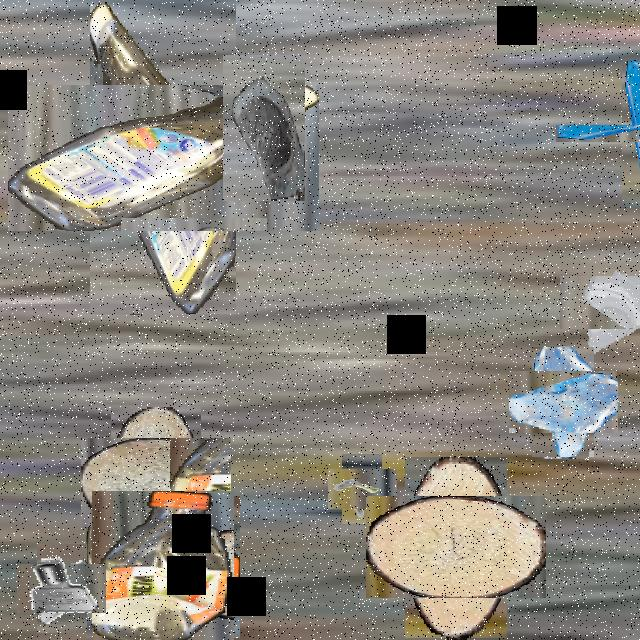glass: (223, 55, 305, 201), (520, 359, 606, 445), (573, 261, 640, 342), (589, 91, 640, 175)
metal: (27, 554, 97, 623), (334, 461, 390, 517)
plastic: (49, 43, 278, 273), (89, 493, 237, 640)
wood: (385, 477, 527, 618), (96, 422, 216, 542)
